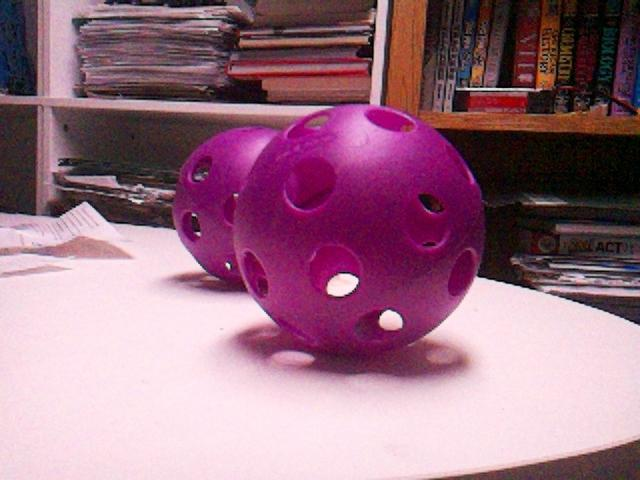Purple: (245, 111, 478, 346), (173, 128, 285, 285)
